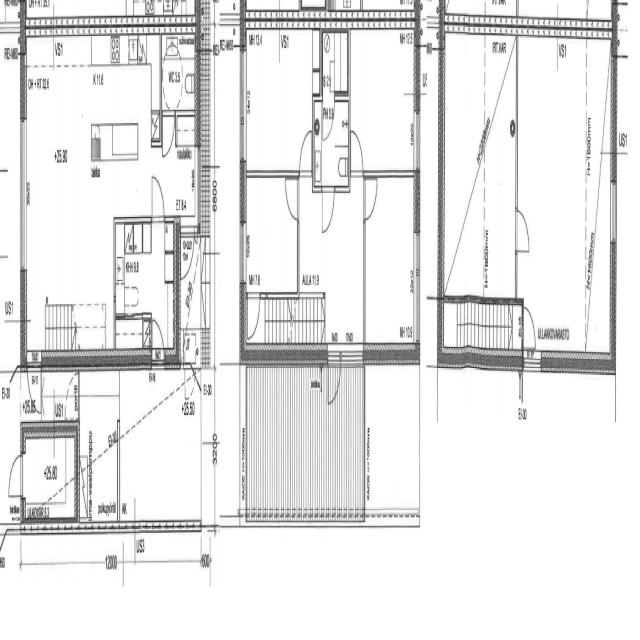door: (6, 446, 25, 509), (514, 200, 533, 259), (179, 226, 197, 284), (521, 299, 538, 359), (25, 356, 42, 414), (245, 286, 262, 342), (320, 180, 336, 239), (362, 169, 379, 224), (326, 350, 341, 412), (150, 172, 166, 228), (349, 123, 365, 178), (284, 168, 300, 222), (298, 125, 313, 180), (161, 107, 176, 162), (150, 313, 166, 363), (322, 97, 336, 140)
window: (17, 108, 30, 283), (238, 48, 247, 167), (413, 213, 421, 323), (608, 170, 618, 256), (412, 102, 422, 174), (238, 217, 246, 286), (196, 143, 202, 229)
zone: (515, 34, 611, 365), (25, 42, 162, 216), (442, 30, 511, 308), (24, 218, 114, 360), (299, 172, 365, 356), (242, 23, 319, 176), (352, 15, 421, 165), (363, 172, 419, 356), (363, 363, 420, 520), (114, 220, 178, 352), (242, 171, 298, 297), (79, 367, 120, 530), (22, 427, 78, 530), (179, 236, 209, 369), (319, 98, 349, 191), (162, 34, 196, 110), (39, 363, 77, 429), (322, 26, 349, 100), (177, 107, 196, 165)
